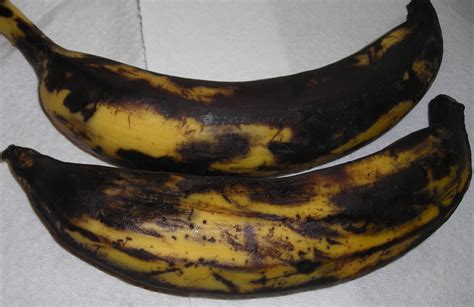banana: (9, 119, 474, 303), (20, 8, 444, 179)
